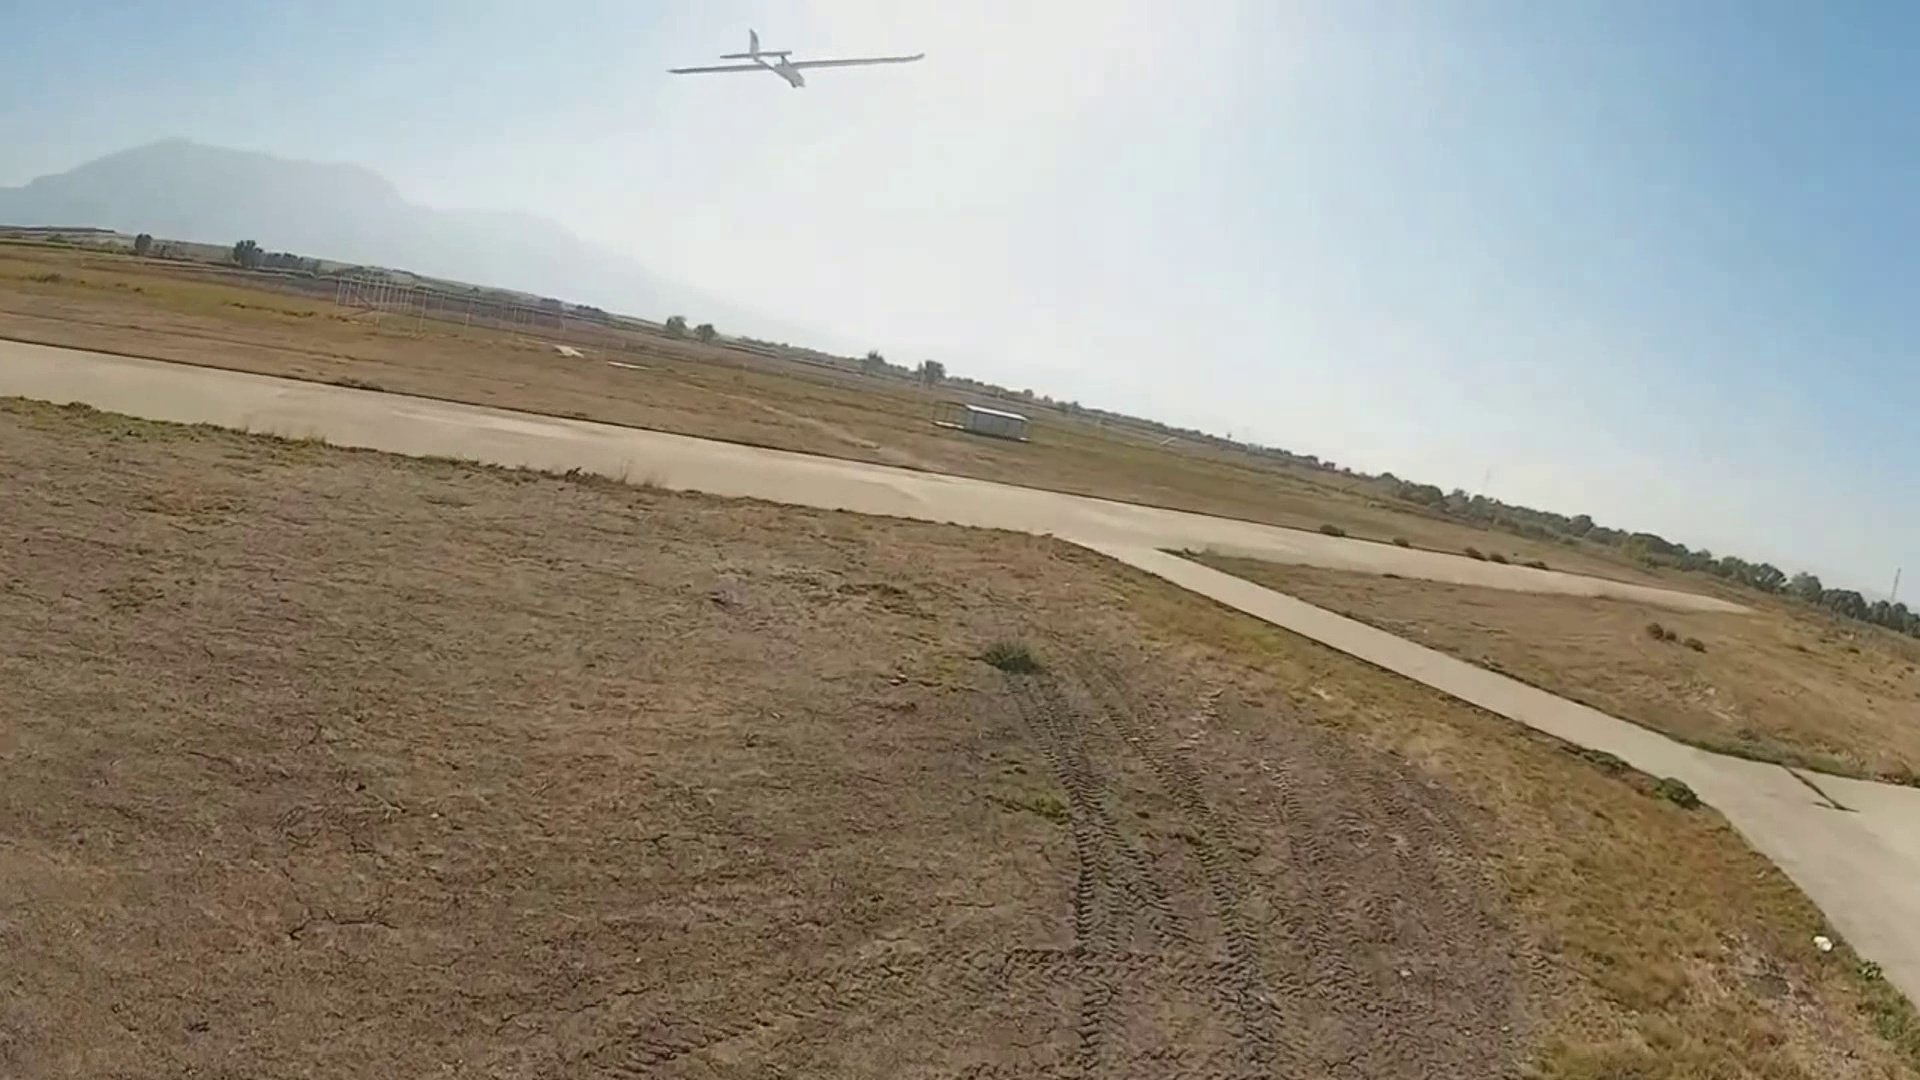airplane: (665, 26, 928, 87)
